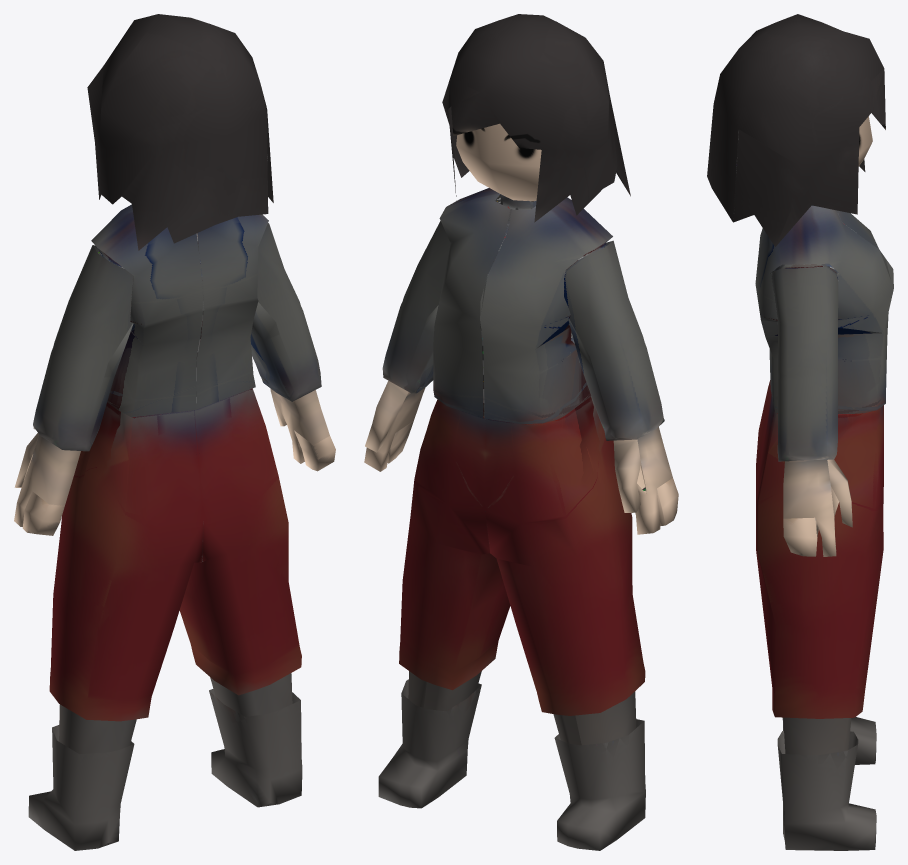
Rendered from PLC_CHAR3.fbx.
3 renders of one model, left to right at view 1: azimuth 30°, elevation 25°; view 2: azimuth 150°, elevation 25°; view 3: azimuth 270°, elevation 25°, orthographic. The views are drawn at different scales.
Parts seen in each view (by area): view 1: Cube, Sphere.001; view 2: Cube, Sphere.001; view 3: Cube, Sphere.001.
Boxes of the visible parts, bbox=[...] form: Cube: bbox=[14, 204, 335, 850]; Sphere.001: bbox=[87, 14, 273, 250]; Cube: bbox=[364, 188, 678, 850]; Sphere.001: bbox=[442, 14, 630, 222]; Cube: bbox=[755, 205, 893, 850]; Sphere.001: bbox=[707, 14, 885, 246].
Size of the model in its own units: 1.58 by 0.8691 by 3.97.
Materials: 2 (2 with a texture image).
